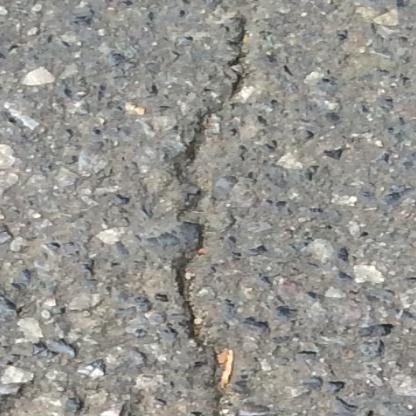Cracks: (167, 104, 230, 409), (223, 11, 257, 106)
